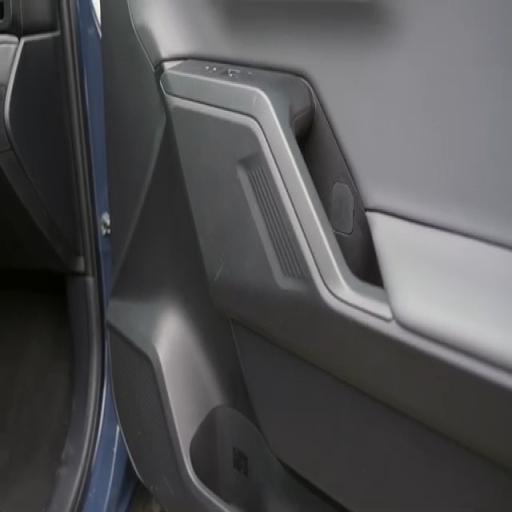door: (102, 0, 511, 510)
